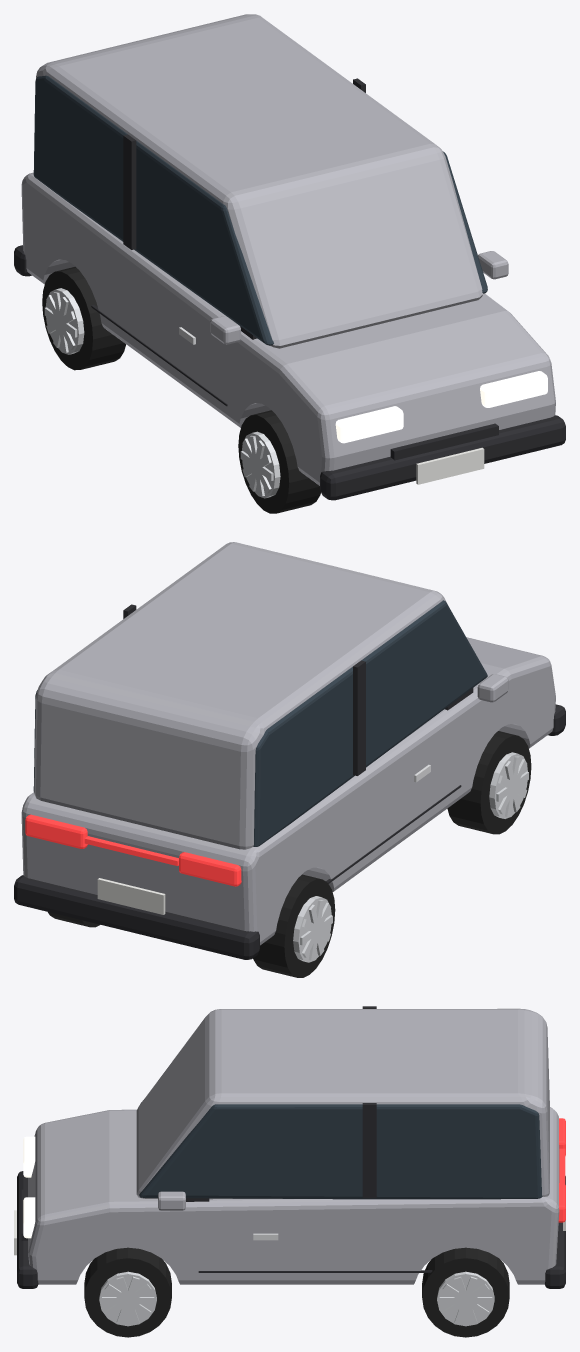
Rendered from kei.glb.
3 views of the same model, one above another, from view 1: azimuth 30°, elevation 25°; view 2: azimuth 150°, elevation 25°; view 3: azimuth 270°, elevation 25° (orthographic). The views are drawn at different scales.
Visible parts, largest first — view 1: e, e.002, Cube, Cylinder, Cylinder.001, Cube.008, Cube.016; view 2: e, e.002, Cube, Cylinder, Cylinder.001, Cube.009, Cube.016; view 3: e, e.002, Cylinder, Cylinder.001, Cube, Cube.008, Cube.009.
Part boxes in pixels (bbox=[...]): e: bbox=[21, 14, 555, 485]; e.002: bbox=[33, 75, 487, 345]; Cube: bbox=[14, 78, 565, 500]; Cylinder: bbox=[42, 266, 320, 513]; Cylinder.001: bbox=[44, 288, 280, 498]; Cube.008: bbox=[335, 371, 547, 443]; Cube.016: bbox=[416, 447, 484, 484]; e: bbox=[21, 542, 555, 945]; e.002: bbox=[33, 600, 487, 846]; Cube: bbox=[14, 604, 565, 959]; Cylinder: bbox=[48, 731, 531, 977]; Cylinder.001: bbox=[293, 752, 528, 962]; Cube.009: bbox=[25, 814, 241, 886]; Cube.016: bbox=[97, 878, 165, 914]; e: bbox=[28, 1008, 559, 1284]; e.002: bbox=[139, 1100, 542, 1199]; Cylinder: bbox=[84, 1247, 509, 1337]; Cylinder.001: bbox=[99, 1271, 494, 1326]; Cube: bbox=[17, 1006, 565, 1288]; Cube.008: bbox=[23, 1136, 35, 1238]; Cube.009: bbox=[558, 1118, 565, 1222].
Size of the model in its own units: 1.81 by 1.66 by 3.53.
